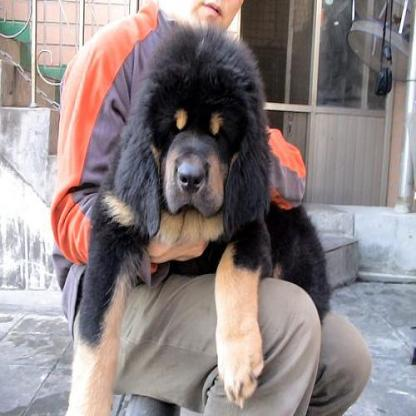Tibetan_mastiff: (63, 19, 328, 414)
